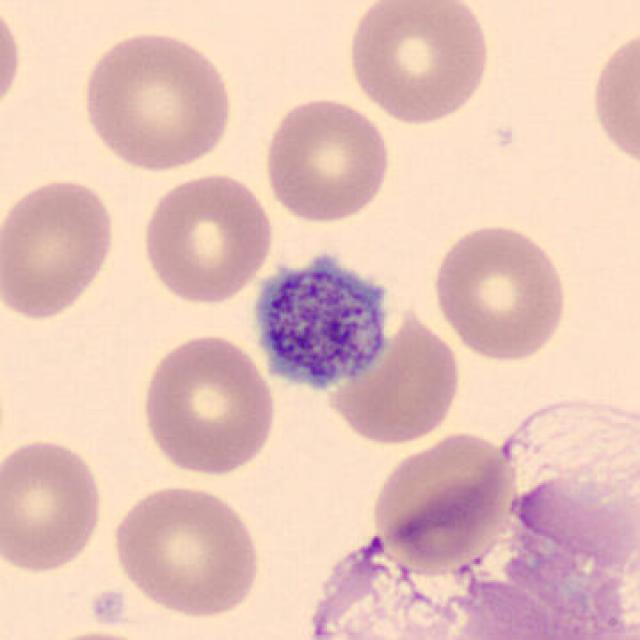Lymphocyte: (246, 243, 398, 397)
Platelets: (247, 245, 402, 399)
RBC: (487, 390, 640, 617), (76, 27, 236, 175), (107, 480, 265, 620), (368, 426, 517, 570), (324, 300, 466, 450), (137, 330, 279, 480), (428, 219, 570, 365), (137, 169, 277, 307), (343, 0, 494, 127), (260, 91, 394, 226), (0, 173, 119, 324), (0, 434, 107, 576), (587, 21, 638, 175), (0, 2, 25, 123), (28, 626, 165, 640)
